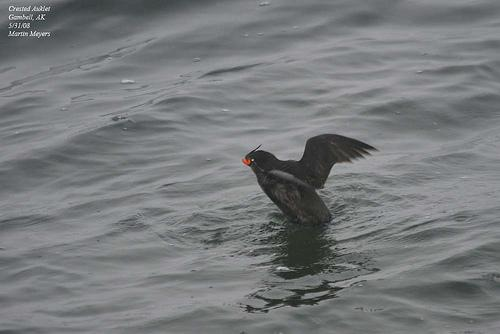005.Crested_Auklet: (240, 133, 377, 226)
